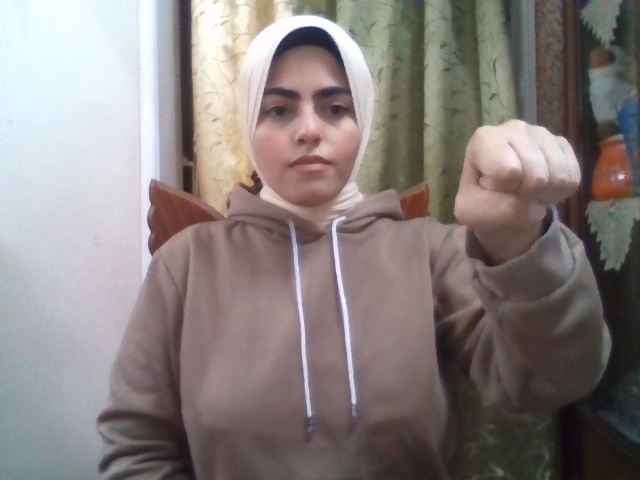yes: (455, 119, 582, 228)
